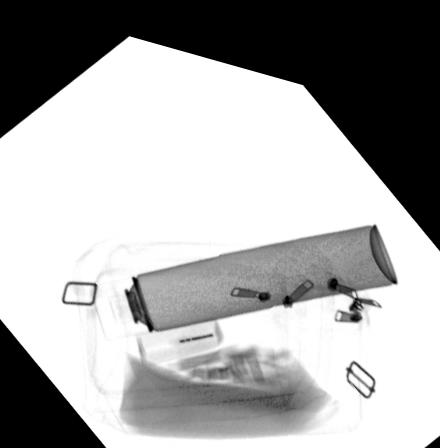Sprayer: (85, 199, 398, 336)
